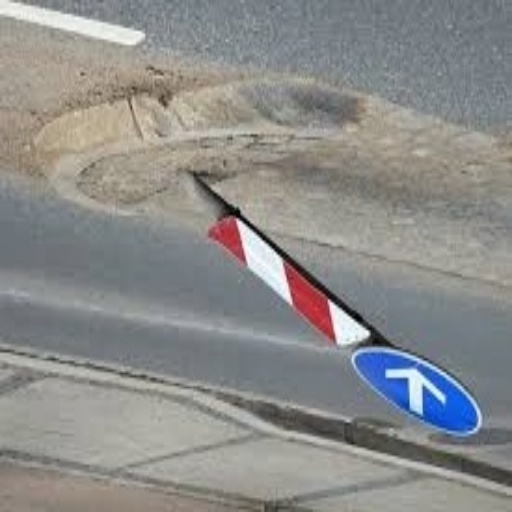Keep right: (333, 303, 483, 477)
